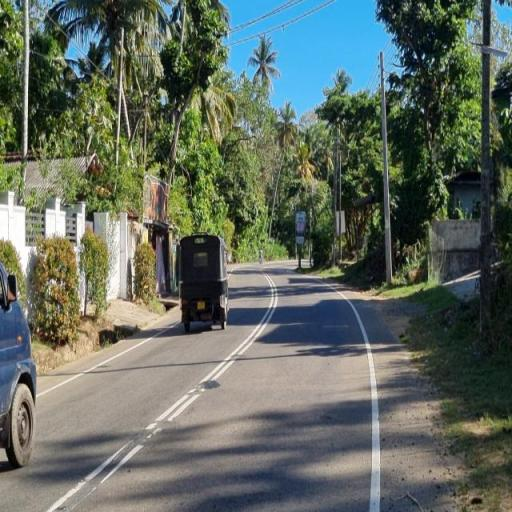double_white_line: (144, 272, 278, 436)
